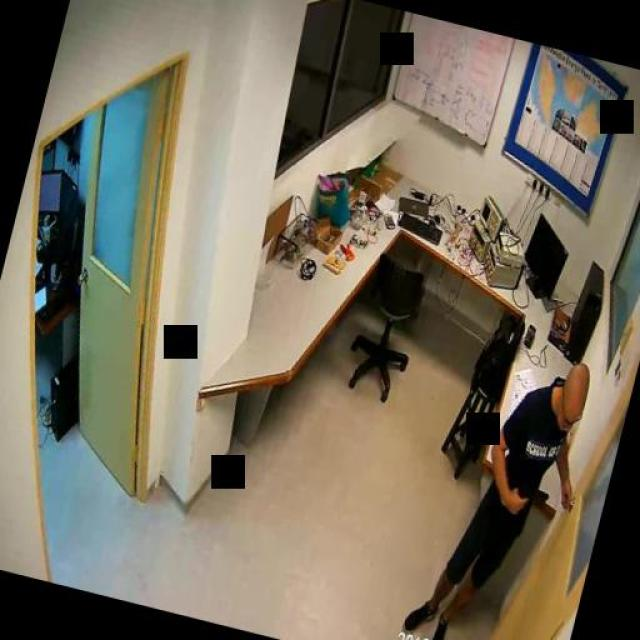gun: (509, 475, 551, 521)
